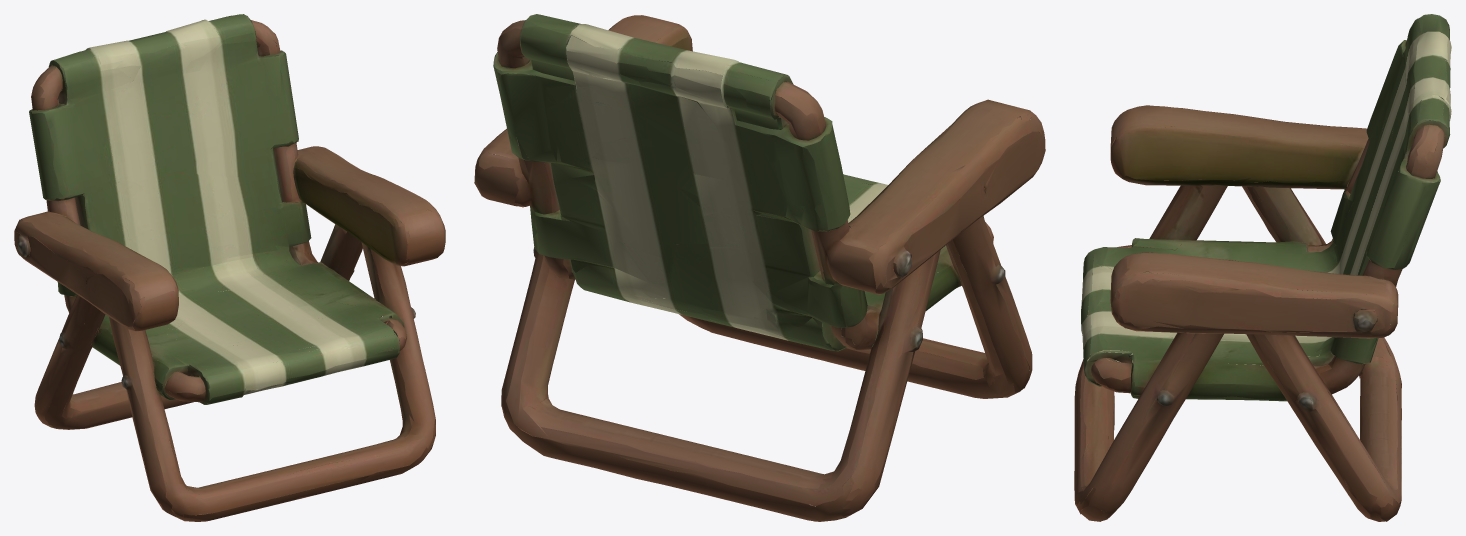
The model's file is chair.glb.
3 renders of one model, left to right at view 1: azimuth 30°, elevation 25°; view 2: azimuth 150°, elevation 25°; view 3: azimuth 270°, elevation 25°, orthographic. The views are drawn at different scales.
Visible parts, largest first — view 1: geometry_0; view 2: geometry_0; view 3: geometry_0.
Boxes of the visible parts, x1,y1,x2,y2 form: geometry_0: (14, 14, 445, 521); geometry_0: (474, 14, 1045, 521); geometry_0: (1074, 14, 1451, 521).
Size of the model in its own units: 0.5705 by 0.5956 by 0.5091.
1 material, 1 textured.
